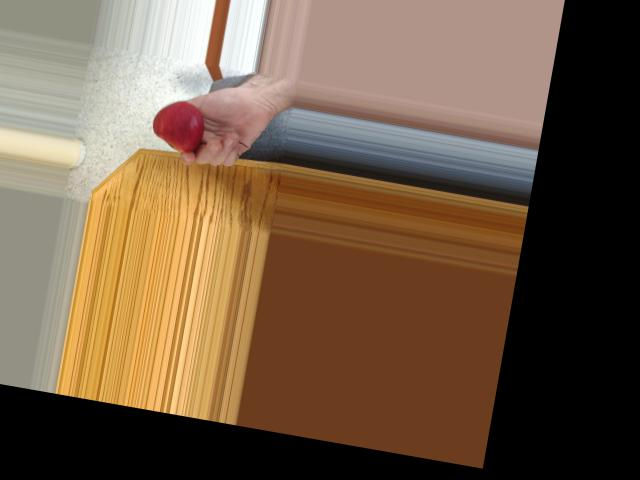apple: (146, 95, 212, 157)
